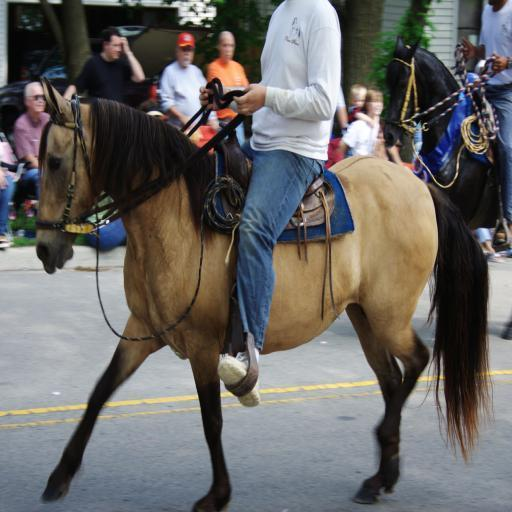horse: (34, 74, 492, 510), (381, 35, 512, 223)
